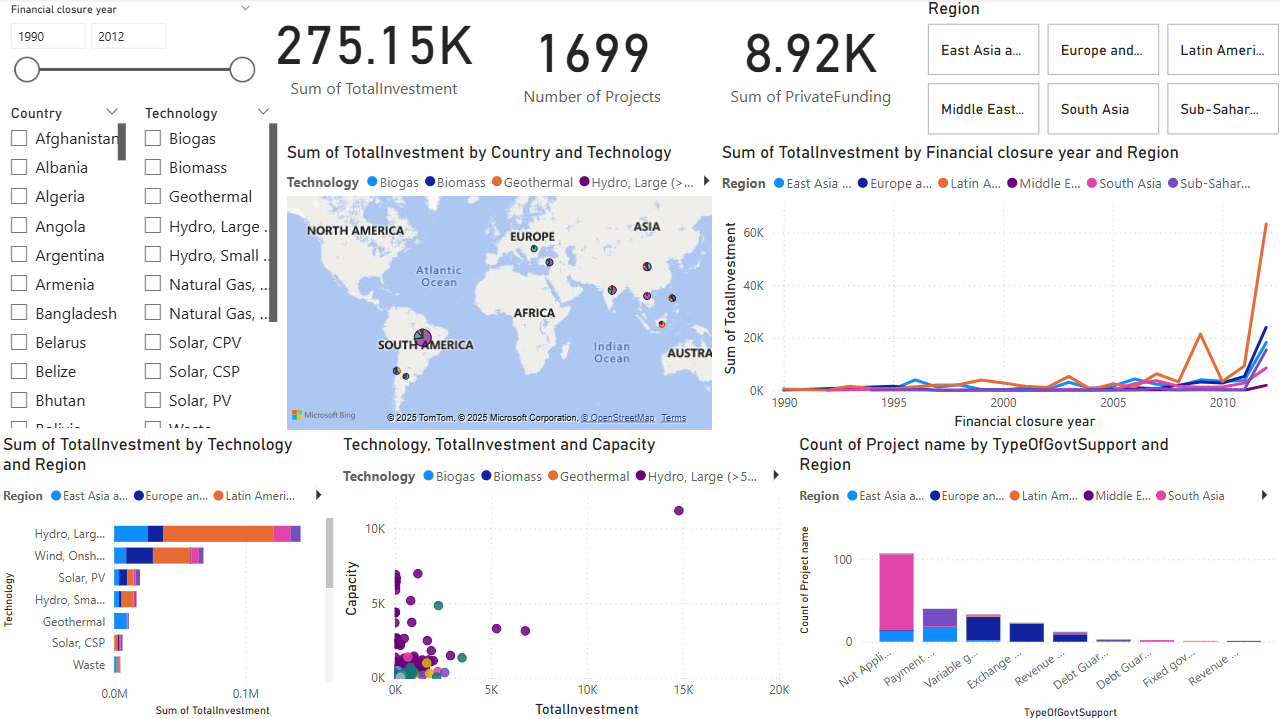

The page's visual inventory and layout, read from the dashboard file:
{"tool":"powerbi","page":{"name":"Dashboard","canvas":[1280,720],"ordinal":0},"visuals":[{"type":"card","fields":{"Values":["Sum(All_Data_1990-2012.TotalInvestment)"]},"box":[263.8,0,221.2,101.2],"z":0},{"type":"card","fields":{"Values":["CountNonNull(All_Data_1990-2012.Project name)"]},"box":[485,0,212.5,117.5],"z":1},{"type":"card","fields":{"Values":["Sum(All_Data_1990-2012.PrivateFunding)"]},"box":[697.5,0,222.5,117.5],"z":2},{"type":"columnChart","fields":{"Category":["All_Data_1990-2012.TypeOfGovtSupport"],"Y":["CountNonNull(All_Data_1990-2012.Project name)"],"Series":["All_Data_1990-2012.Region"]},"box":[792.5,433.8,487.5,287.5],"z":3},{"type":"scatterChart","fields":{"X":["All_Data_1990-2012.TotalInvestment"],"Y":["All_Data_1990-2012.Capacity"],"Series":["All_Data_1990-2012.Technology"]},"box":[338.8,433.8,453.8,286.2],"z":4},{"type":"lineChart","fields":{"Category":["All_Data_1990-2012.Financial closure year"],"Series":["All_Data_1990-2012.Region"],"Y":["Sum(All_Data_1990-2012.TotalInvestment)"]},"box":[715,142.5,565,291.2],"z":5},{"type":"map","fields":{"Category":["All_Data_1990-2012.Country"],"Size":["Sum(All_Data_1990-2012.TotalInvestment)"],"Series":["All_Data_1990-2012.Technology"]},"box":[282.5,142.5,432.5,291.2],"z":6},{"type":"barChart","fields":{"Category":["All_Data_1990-2012.Technology"],"Y":["Sum(All_Data_1990-2012.TotalInvestment)"],"Series":["All_Data_1990-2012.Region"]},"box":[0,433.8,338.8,286.2],"z":7},{"type":"slicer","fields":{"Values":["All_Data_1990-2012.Country"]},"box":[0,101.2,132.5,332.5],"z":8},{"type":"slicer","fields":{"Values":["All_Data_1990-2012.Technology"]},"box":[132.5,101.2,150,332.5],"z":9},{"type":"slicer","fields":{"Values":["All_Data_1990-2012.Financial closure year"]},"box":[0,0,263.8,101.2],"z":10},{"type":"advancedSlicerVisual","fields":{"Values":["All_Data_1990-2012.Region"]},"box":[920,0,360,142.5],"z":11}]}

Visuals, with their boxes in screenshot pixels (x1, y1, x2, y2), scaled from the page's 1280x720 canvas onto the 1280x719 screenshot:
card - Sum(All_Data_1990-2012.TotalInvestment): <box>264,0,485,101</box>
card - CountNonNull(All_Data_1990-2012.Project name): <box>485,0,698,117</box>
card - Sum(All_Data_1990-2012.PrivateFunding): <box>698,0,920,117</box>
columnChart - All_Data_1990-2012.TypeOfGovtSupport x CountNonNull(All_Data_1990-2012.Project name): <box>792,433,1279,718</box>
scatterChart - All_Data_1990-2012.TotalInvestment x All_Data_1990-2012.Capacity: <box>339,433,793,718</box>
lineChart - All_Data_1990-2012.Financial closure year x All_Data_1990-2012.Region: <box>715,142,1279,433</box>
map - All_Data_1990-2012.Country x Sum(All_Data_1990-2012.TotalInvestment): <box>282,142,715,433</box>
barChart - All_Data_1990-2012.Technology x Sum(All_Data_1990-2012.TotalInvestment): <box>0,433,339,718</box>
slicer - All_Data_1990-2012.Country: <box>0,101,132,433</box>
slicer - All_Data_1990-2012.Technology: <box>132,101,282,433</box>
slicer - All_Data_1990-2012.Financial closure year: <box>0,0,264,101</box>
advancedSlicerVisual - All_Data_1990-2012.Region: <box>920,0,1279,142</box>
